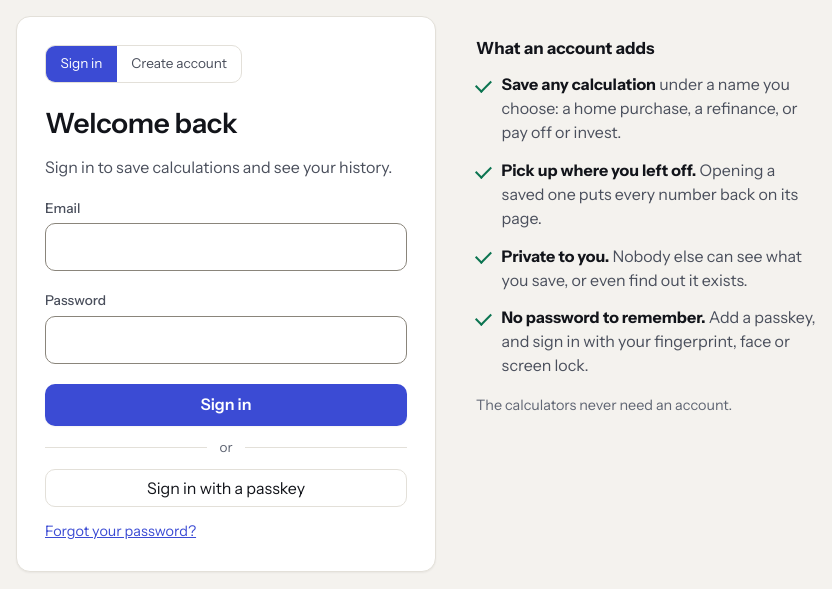
Test: SignInPageComponent › creates an account instead, when asked, then asks the user to check their email
Click the button "Create account": (179, 64) [117,46,241,82]
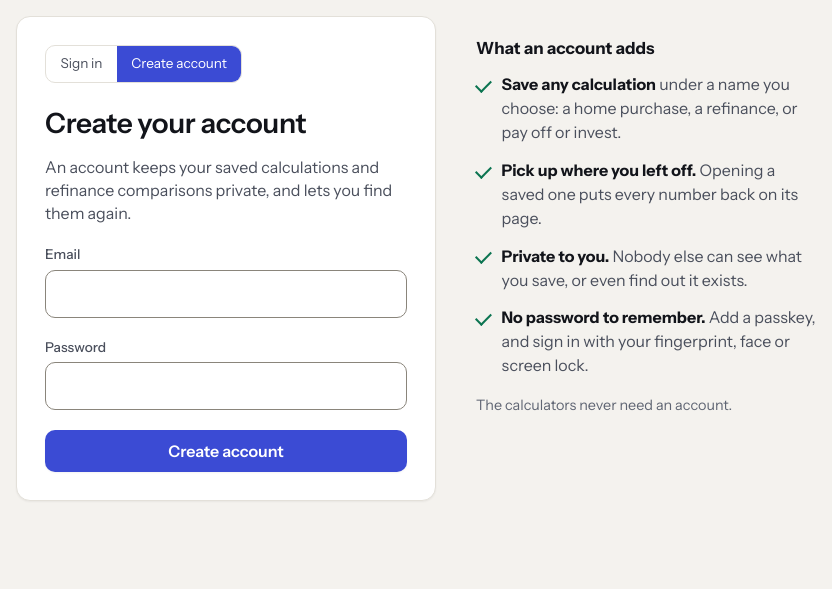
Check: the button "Create account" below "Email" is shown, box [45,430,407,472]
In the field labelled "Email": (226, 294) [45,270,407,318], type "bob@example.com"
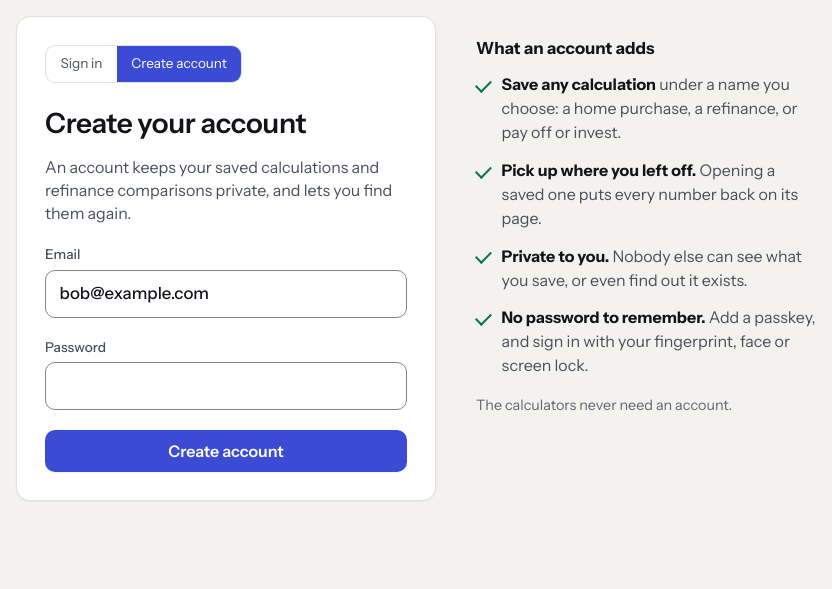
In the password field labelled "Password": (226, 386) [45,362,407,410], type "correct-horse-1"
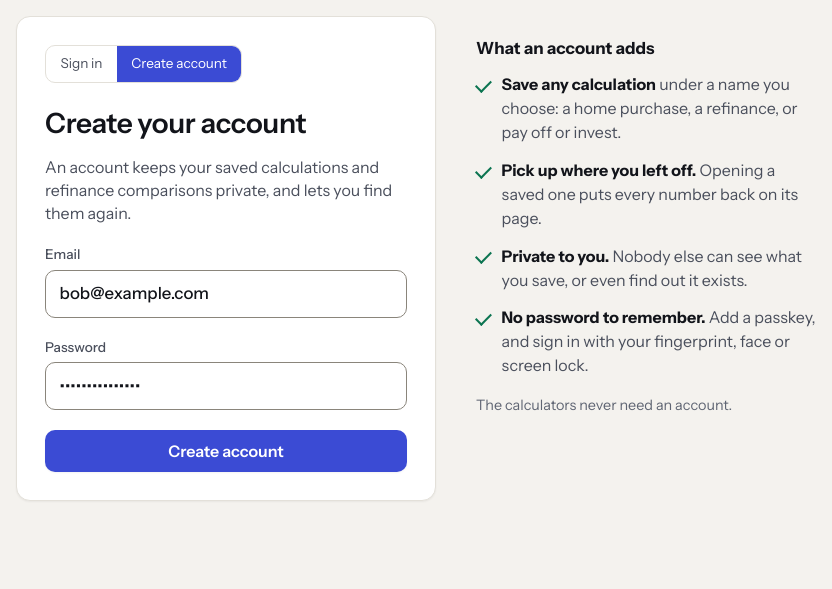
Submit the form, box [45,245,407,472]
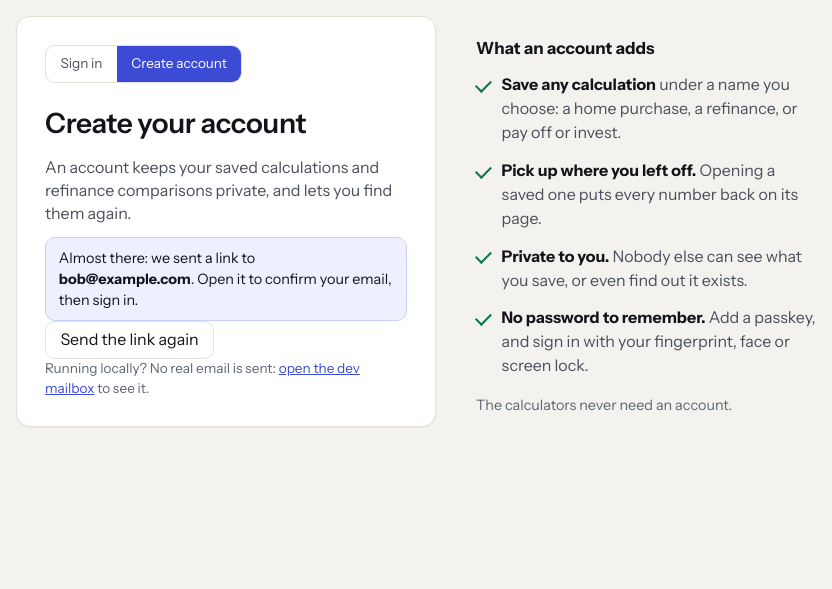
Check: the text "we sent a link to bob@example.com" is shown, box [45,237,407,321]
